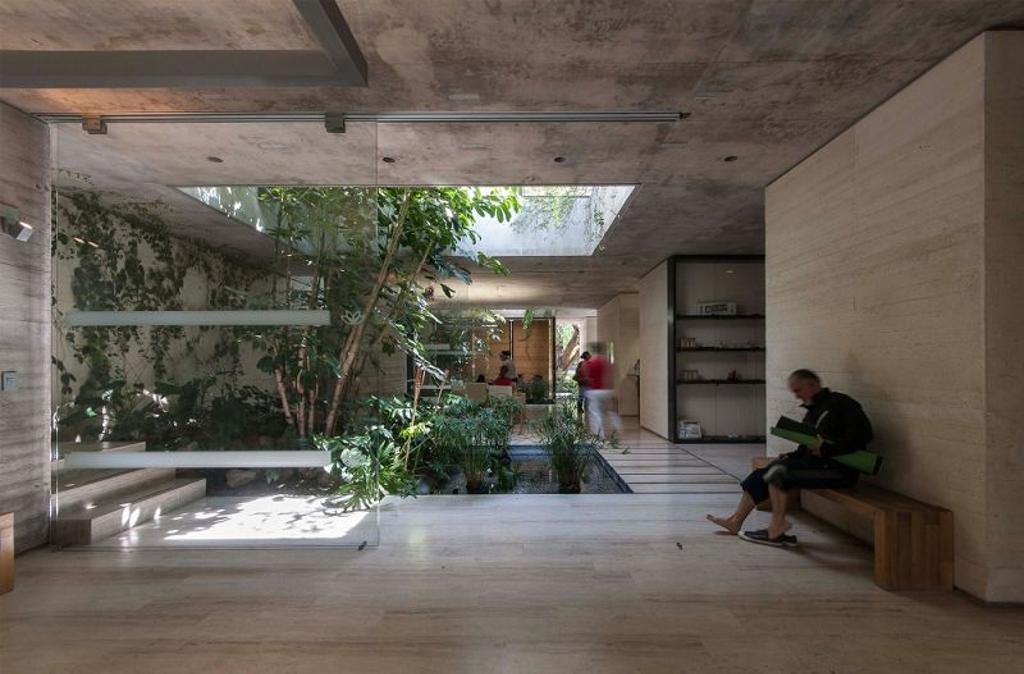face: (791, 380, 811, 401)
